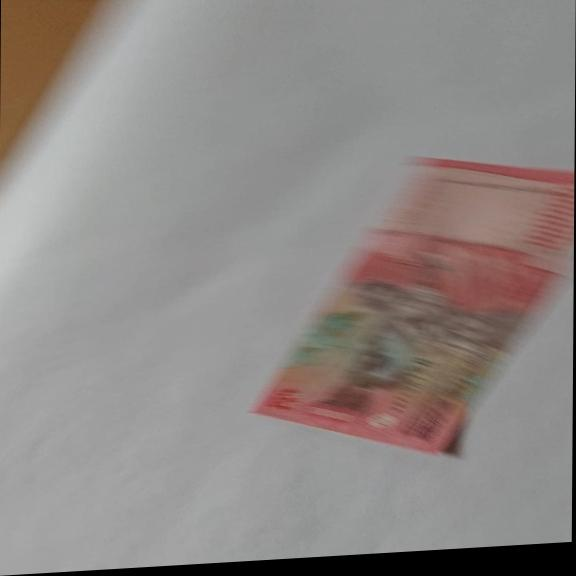Kertas: (244, 145, 575, 472)
